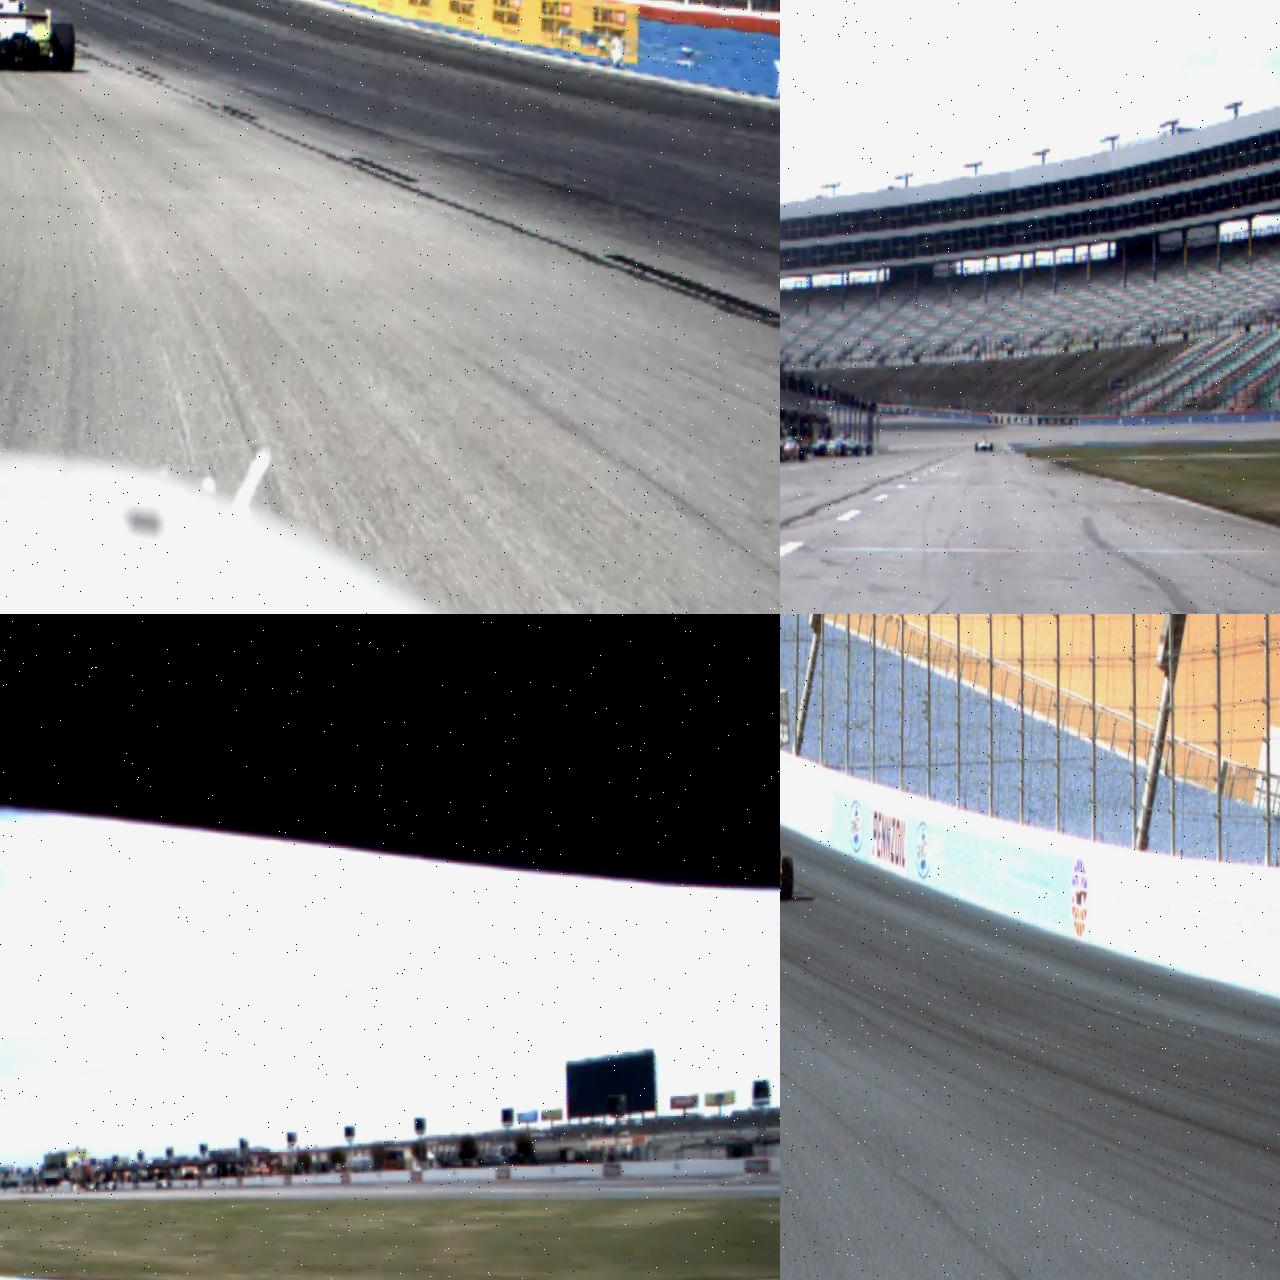AV: (0, 0, 76, 74), (976, 435, 994, 452)
Wheel: (50, 23, 76, 72), (780, 856, 794, 899), (799, 447, 807, 462), (854, 444, 862, 456), (819, 444, 826, 456), (840, 444, 846, 457), (865, 446, 872, 456), (780, 445, 784, 462), (990, 443, 994, 452), (976, 444, 979, 452)
